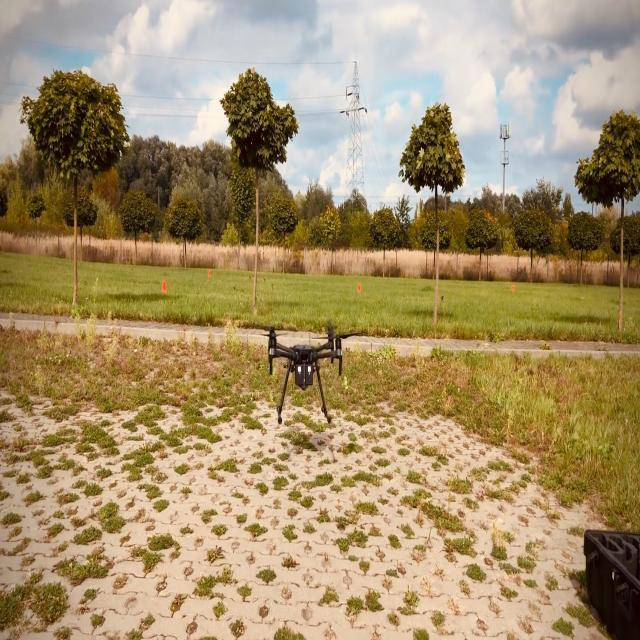drone: (258, 325, 362, 424)
